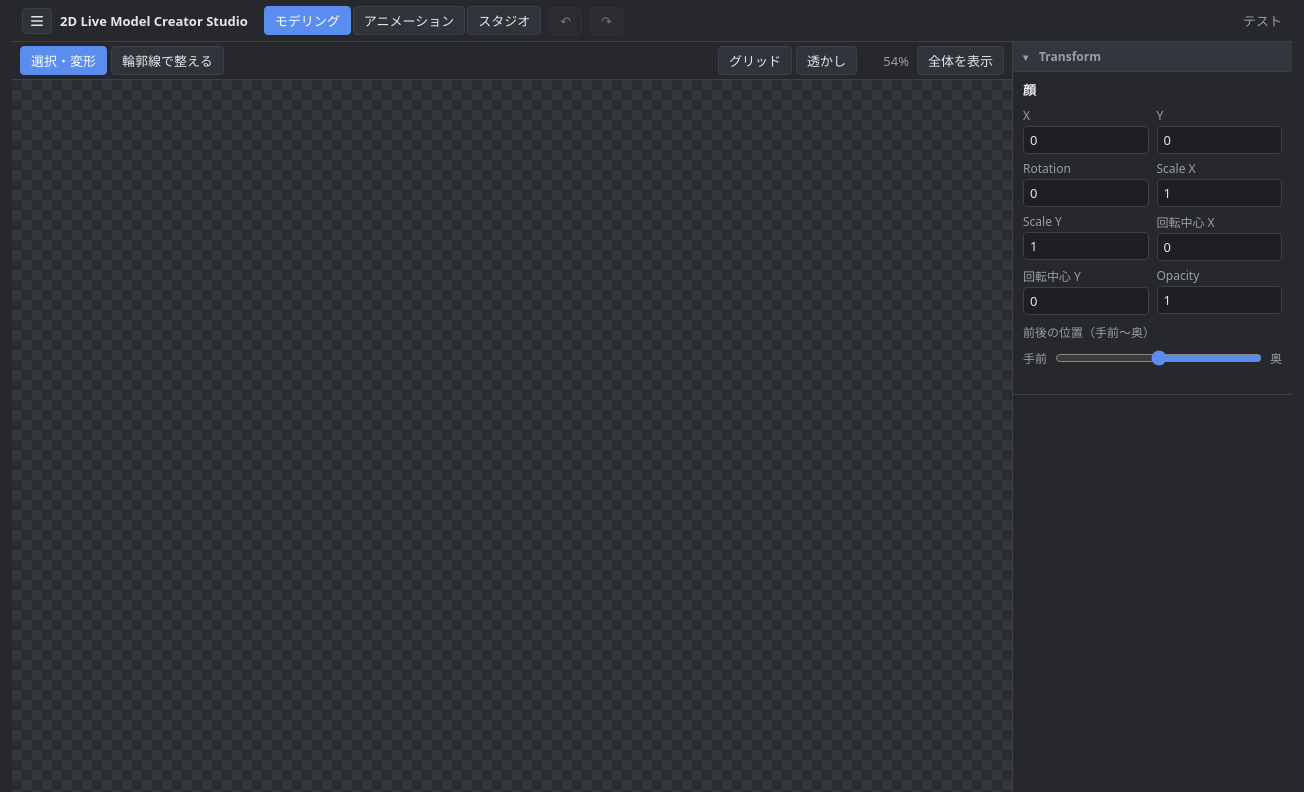
Test: I-068: 輪郭線のパレット › パーツを選ぶと線の一覧・影響幅・一緒に動かすパーツの候補・頂点の間隔が出る
Click the button "輪郭線で整える" at (167, 60), box [111,46,224,75]
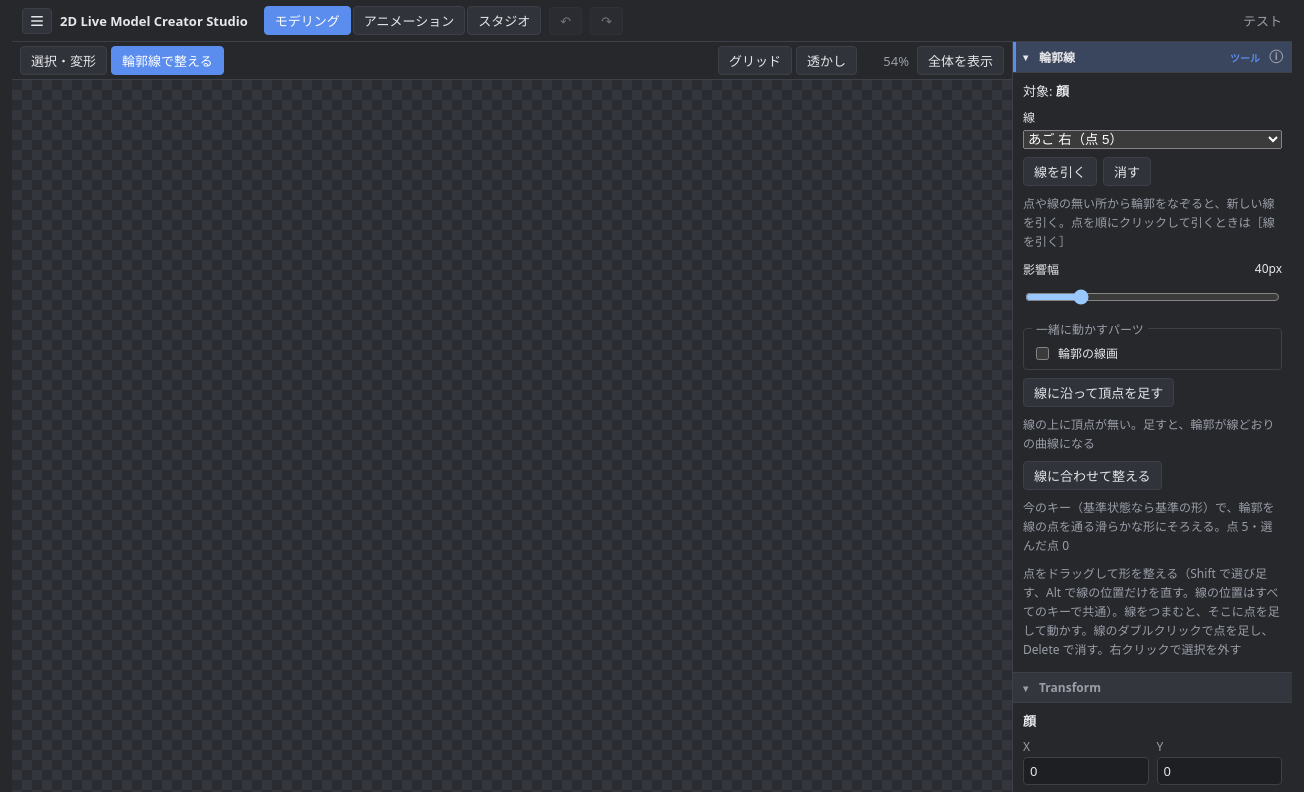
Check: the element that starts with "輪郭線" is shown, box [1013,42,1292,673]
Check: the text "顔" next to "対象:" is shown, box [1056,82,1069,100]
Check: the dropdown named "輪郭線" shows "あご 右（点 5）", box [1023,130,1282,149]
// 影響幅にかかる「輪郭の線画」が候補に出て、チェックで一緒に動かすパーツになる
Click the checkbox labelled "輪郭の線画" at (1042, 353), box [1036,347,1049,360]
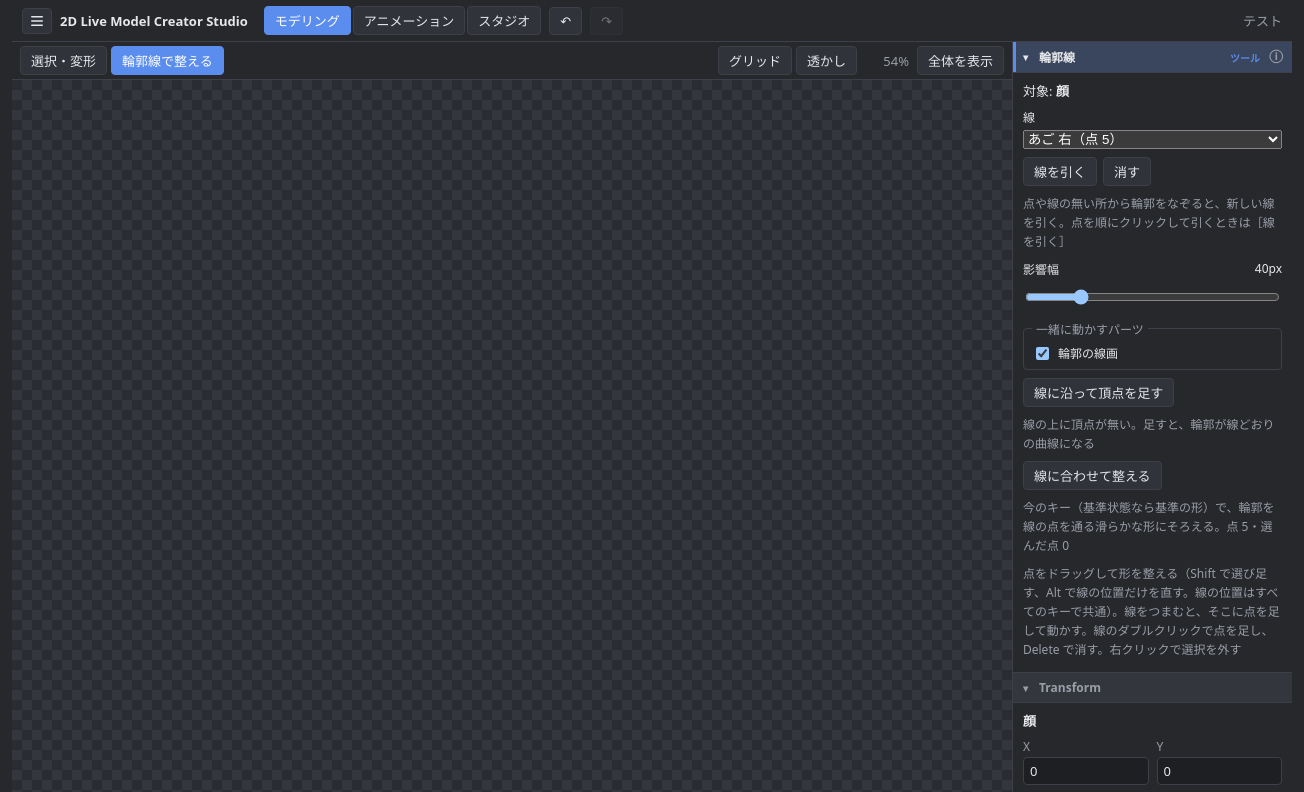
Check: the text "点や線の無い所から輪郭をなぞると、新しい線を引く。点を順にクリックして引くときは［線を引く］" is shown, box [1023,194,1282,252]
// ［線を引く］で引く段になり、案内が出る
Click the button "線を引く" at (1060, 172), box [1023,157,1097,186]
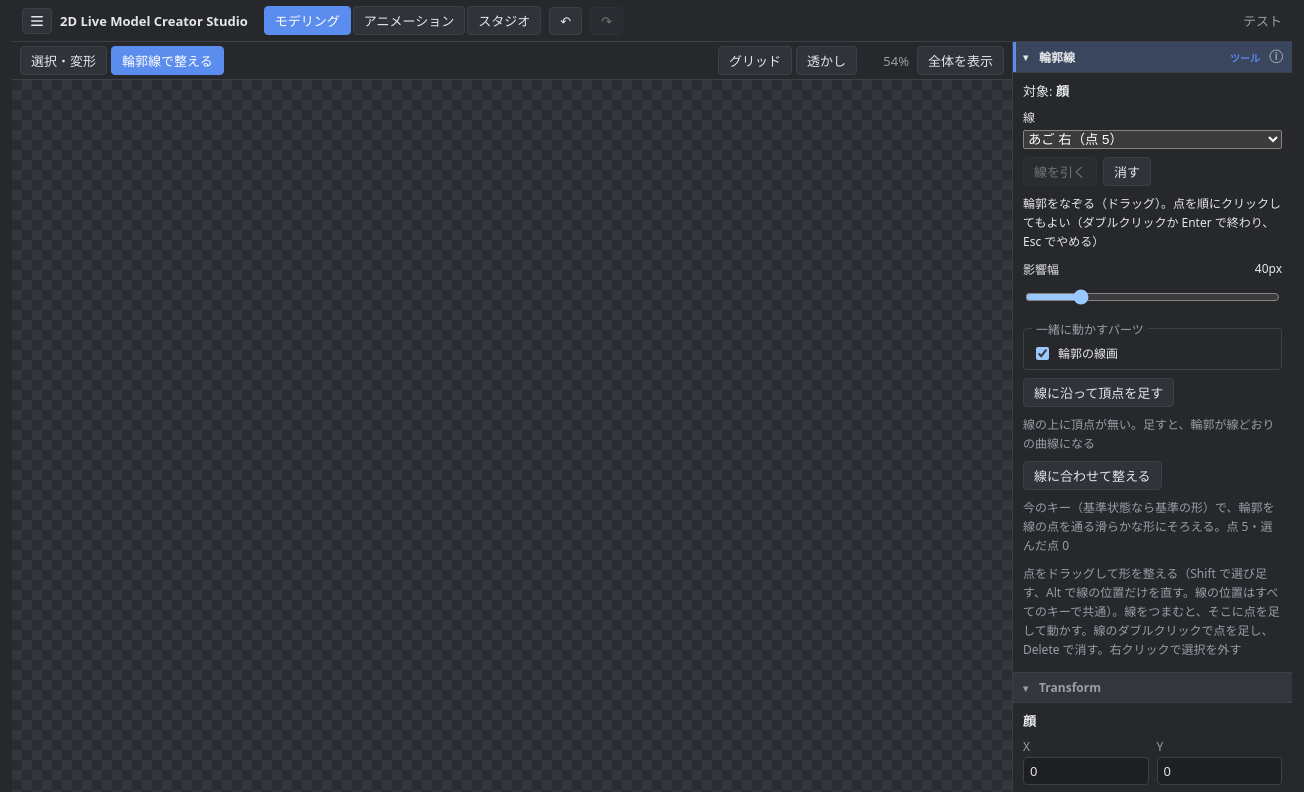
Check: the text "輪郭をなぞる（ドラッグ）。点を順にクリックしてもよい（ダブルクリックか Enter で終わり、Esc でやめる）" is shown, box [1023,194,1282,252]
